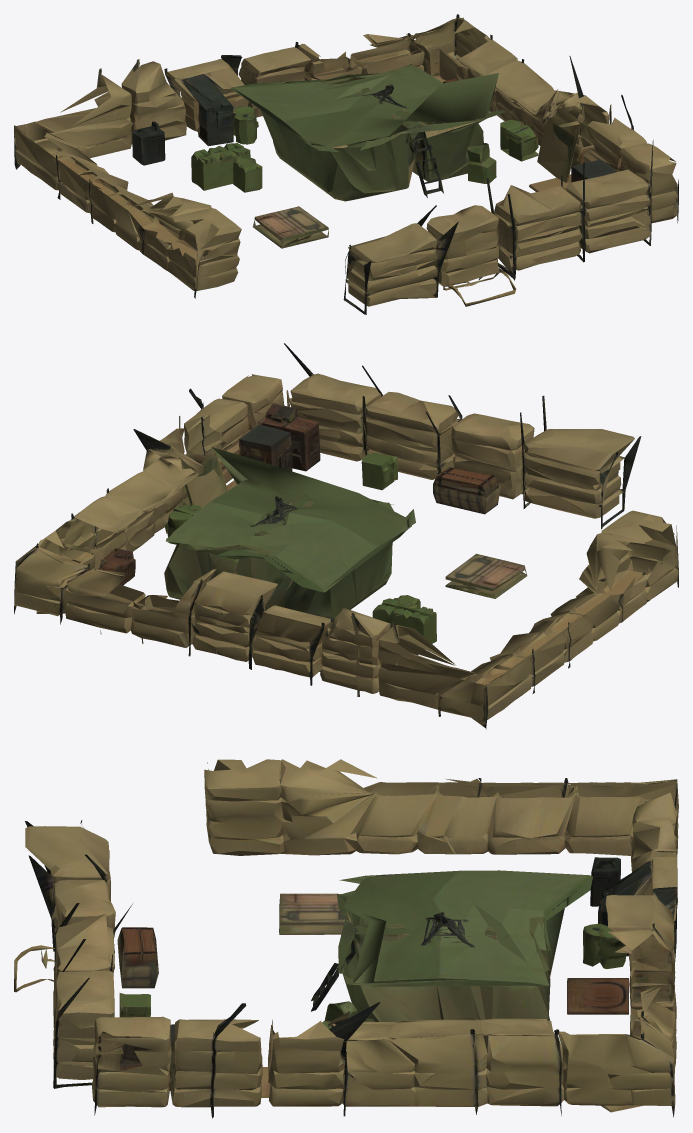
File: camp_wreck.glb
3 renders of one model, top to bottom at view 1: azimuth 30°, elevation 25°; view 2: azimuth 150°, elevation 25°; view 3: azimuth 270°, elevation 25°, orthographic. The views are drawn at different scales.
Visible parts, largest first — view 1: wall.001; view 2: wall.001; view 3: wall.001.
Boxes of the visible parts, x1,y1,x2,y2 form: wall.001: (14, 14, 678, 314); wall.001: (14, 343, 678, 729); wall.001: (14, 759, 678, 1118).
Size of the model in its own units: 7.54 by 1.54 by 7.5.
Materials: 1 (1 with a texture image).
